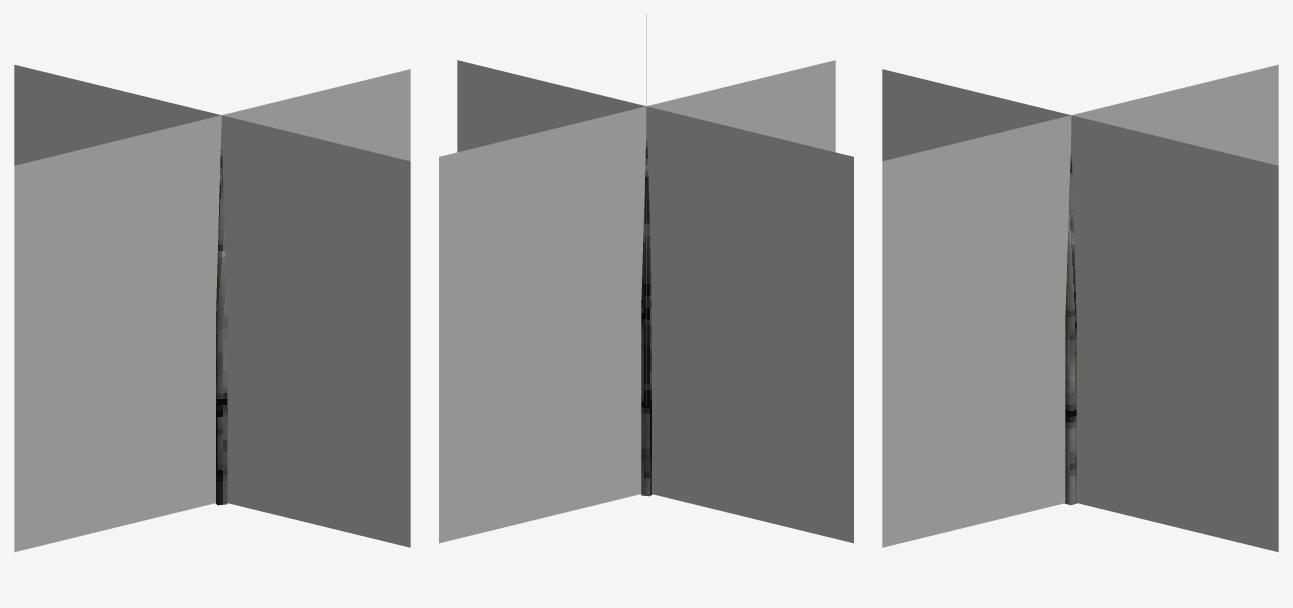
The model's file is tree1.fbx.
The picture shows the model from 3 angles, left to right: view 1: azimuth 30°, elevation 25°; view 2: azimuth 150°, elevation 25°; view 3: azimuth 270°, elevation 25°; orthographic projection.
Visible parts, largest first — view 1: leaves, trunk; view 2: leaves, trunk; view 3: leaves, trunk.
Boxes of the visible parts, x1=… form: leaves: x1=14, y1=64, x2=410, y2=552; trunk: x1=215, y1=128, x2=227, y2=505; leaves: x1=439, y1=14, x2=853, y2=543; trunk: x1=641, y1=119, x2=652, y2=496; leaves: x1=882, y1=64, x2=1278, y2=552; trunk: x1=1064, y1=138, x2=1077, y2=505.
Bounding box in the file's own units: 1213 × 1132 × 1051.
